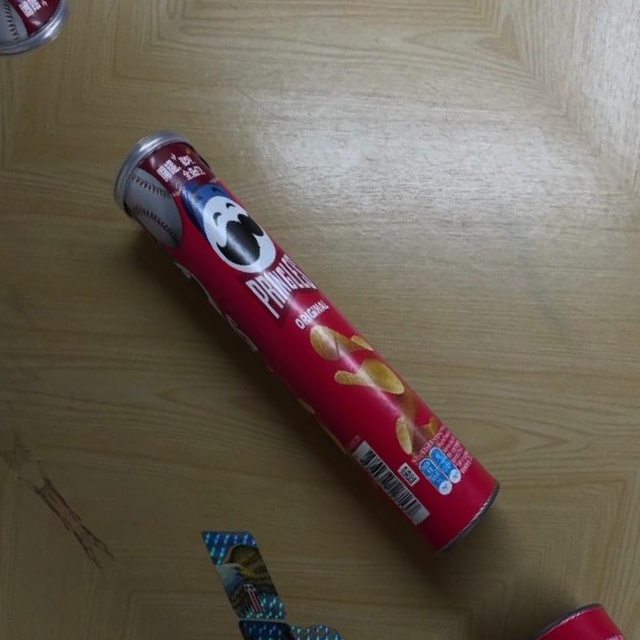Pringles: (94, 103, 512, 571)
